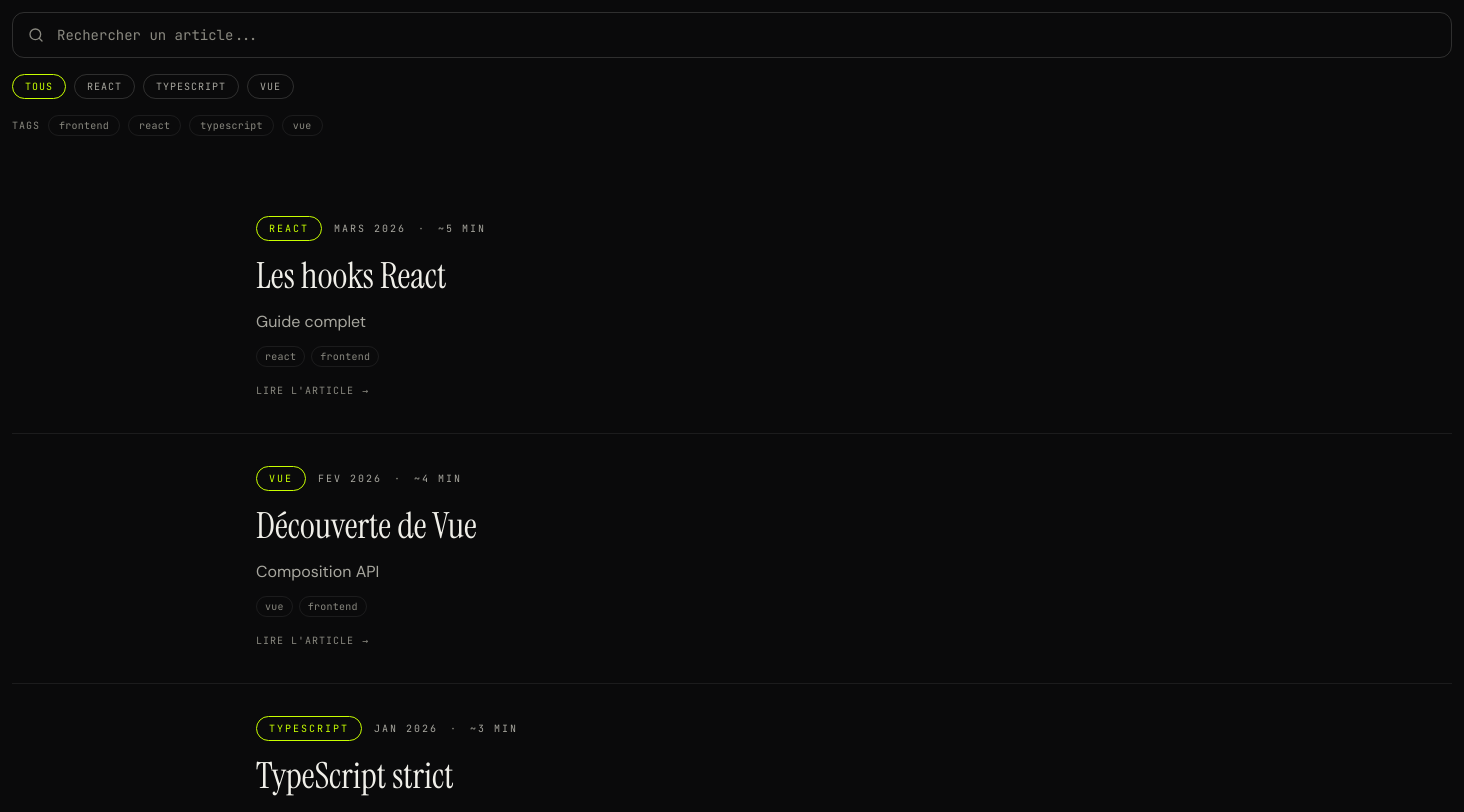
Test: NotesFilters › filtre par catégorie
The image size is (1464, 812).
Click the button "React" at (104, 86), box x1=74 y1=74 x2=135 y2=99
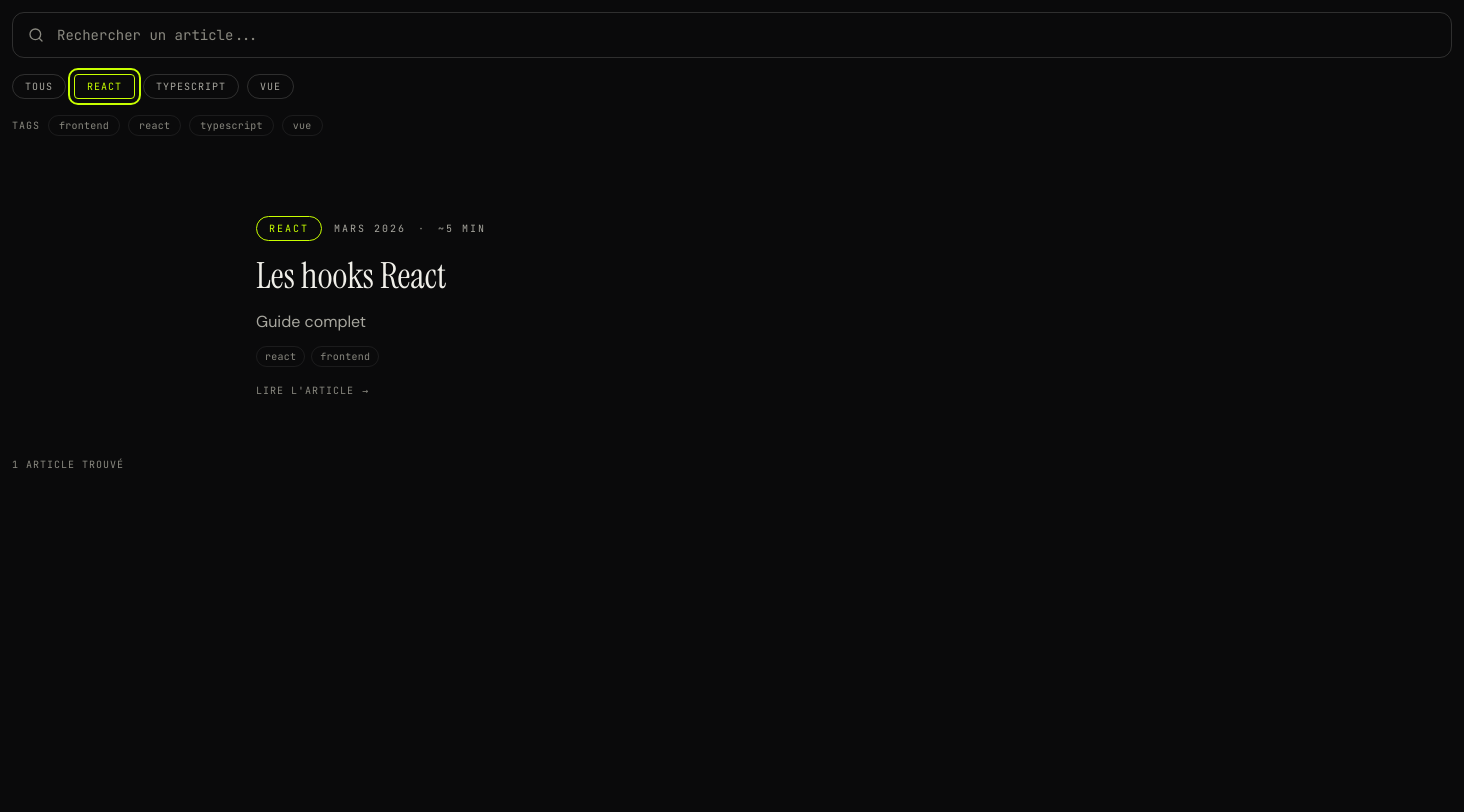
Expected: the heading "Les hooks React" is shown, x1=256 y1=252 x2=446 y2=299
Now the link "Découverte de Vue" is gone
Now the link "TypeScript strict" is gone
